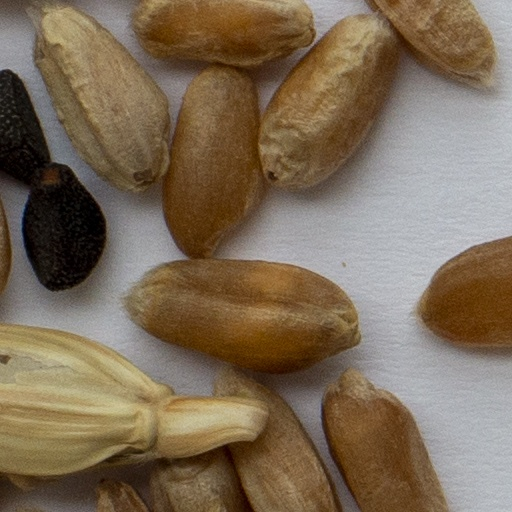Peel-poly: (0, 325, 272, 478)
